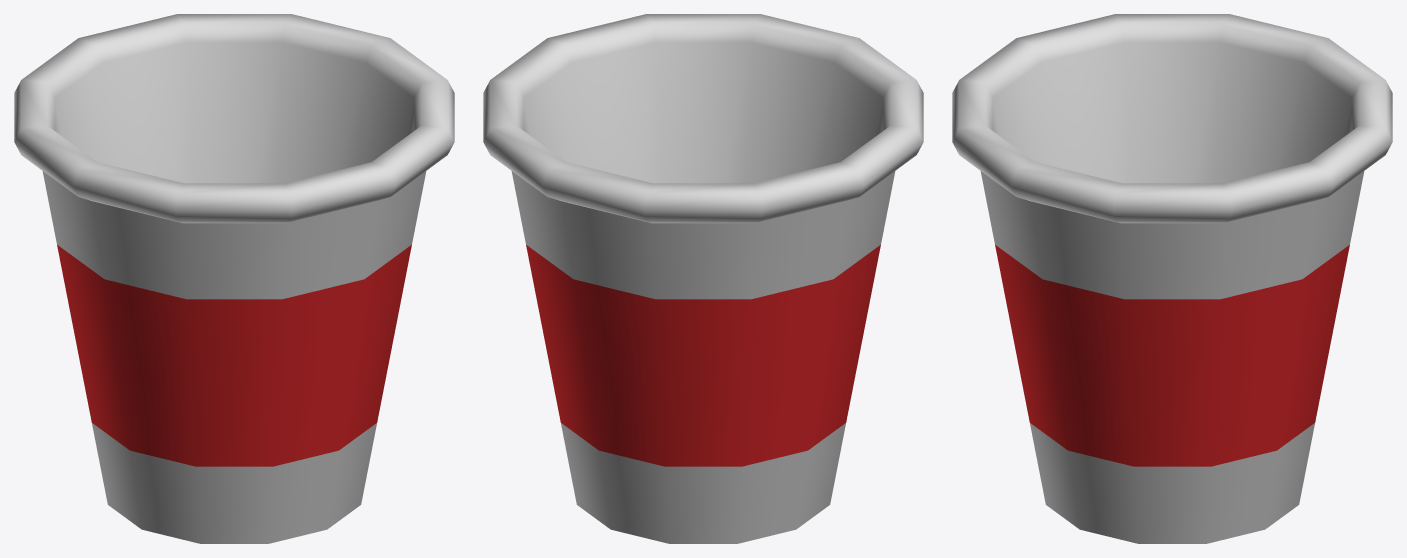
The model's file is SM_CupNoodleCup.fbx.
The picture shows the model from 3 angles, left to right: view 1: azimuth 30°, elevation 25°; view 2: azimuth 150°, elevation 25°; view 3: azimuth 270°, elevation 25°; orthographic projection.
Visible parts, largest first — view 1: Cup Noodle; view 2: Cup Noodle; view 3: Cup Noodle.
Part boxes in pixels (x1,y1,x2,y2): Cup Noodle: (14,14,454,543); Cup Noodle: (483,14,923,543); Cup Noodle: (952,14,1392,543).
Bounding box in the file's own units: 15.56 × 15.08 × 15.56.
